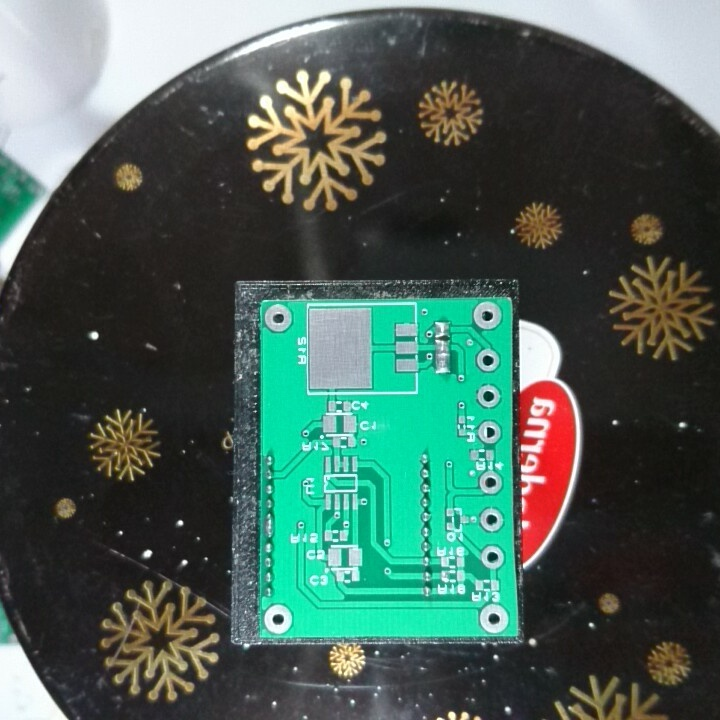F: (474, 602, 512, 636), (469, 300, 506, 332), (262, 302, 296, 336), (262, 602, 297, 635), (477, 541, 508, 572), (474, 418, 505, 446), (477, 466, 505, 496), (477, 505, 505, 535), (474, 383, 502, 410), (474, 347, 502, 373)
P: (431, 338, 451, 377), (261, 512, 277, 543)
